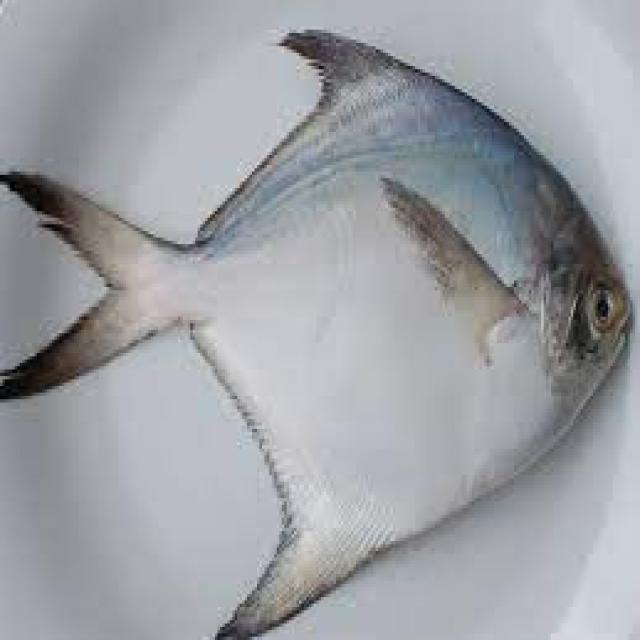pomfred: (0, 30, 636, 637)
